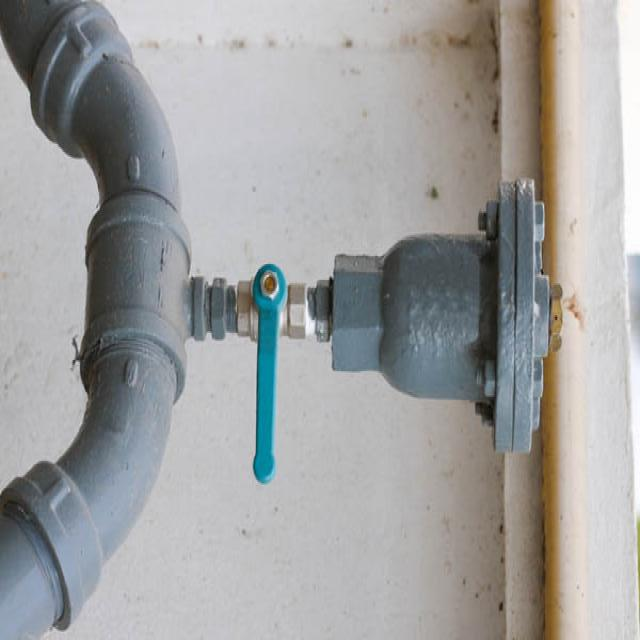closed valve: (229, 259, 317, 487)
